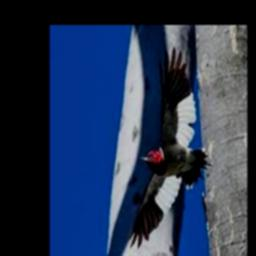Woodpecker: (129, 48, 213, 249)
